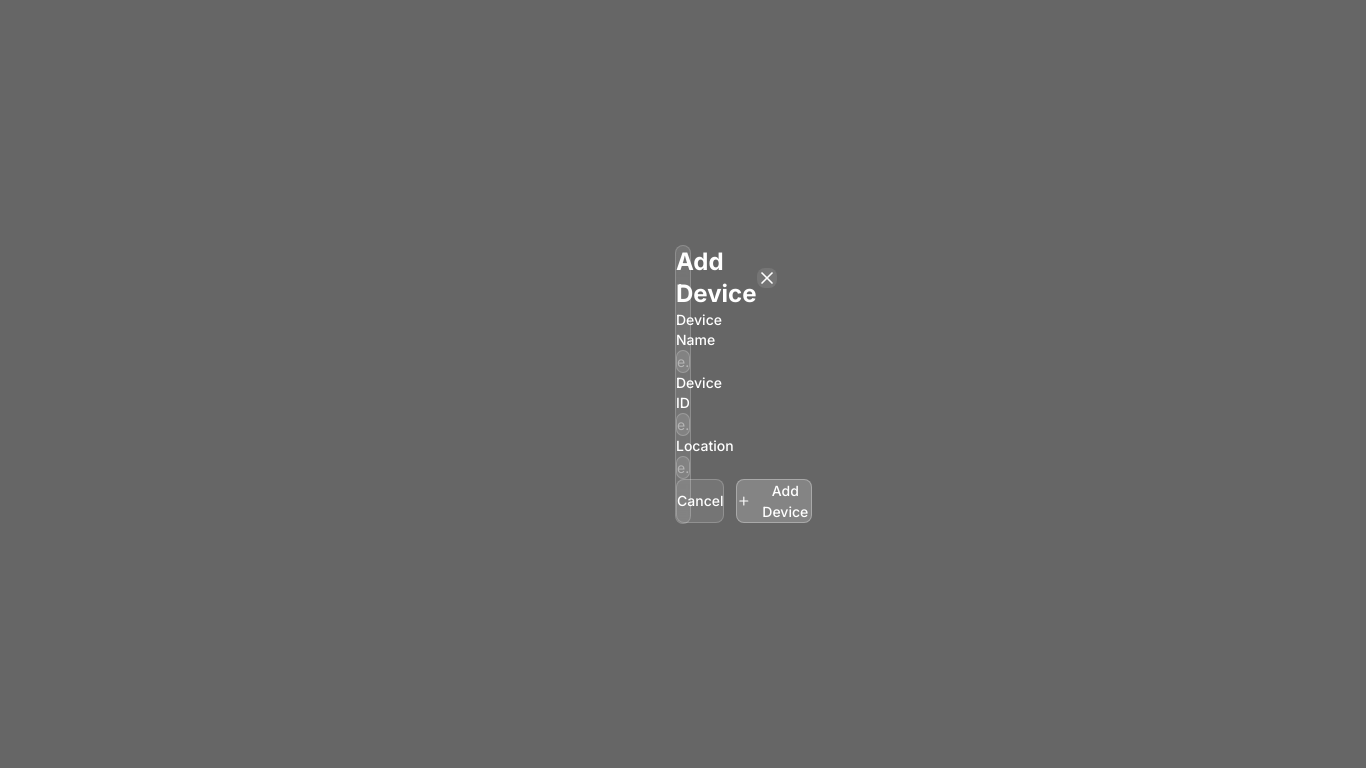
Scenario: AddDeviceModal › Form Validation › should show error when device name is too short
The width and height of the screenshot is (1366, 768).
Type "AB" into the field with test id "device-name-input" at (683, 361), box [676,350,690,372]
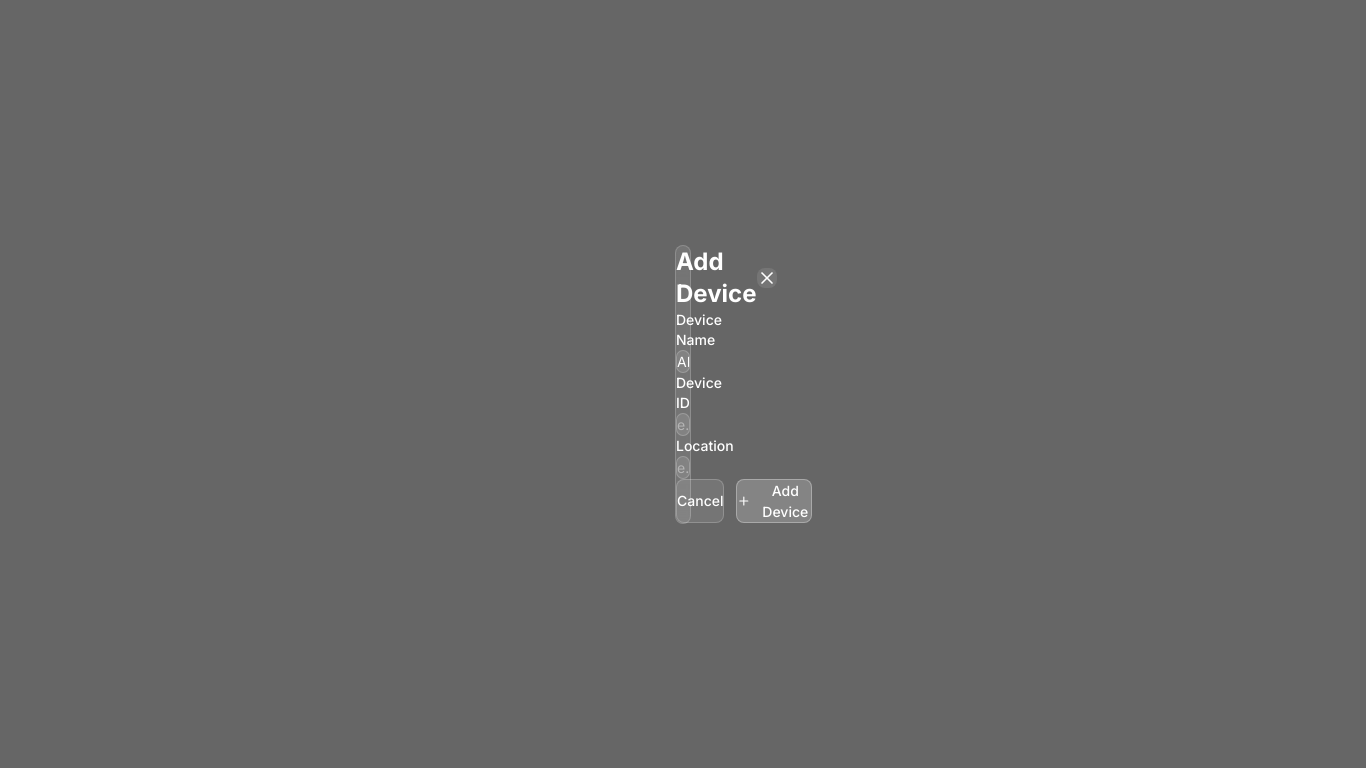
Click the button with test id "submit-button" at (774, 500), box [736,478,812,522]
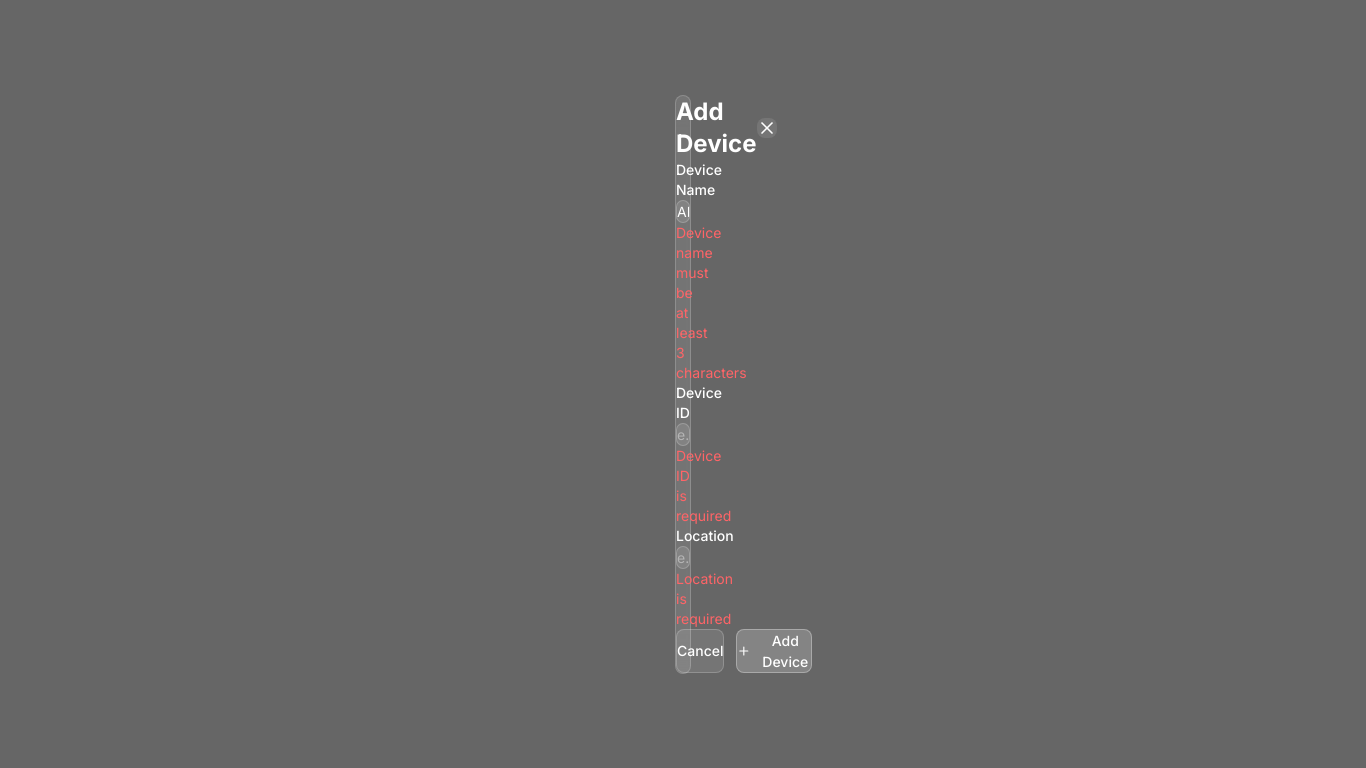
Check: the text with test id "name-error" reads "Device name must be at least 3 characters", box [676,224,746,380]
